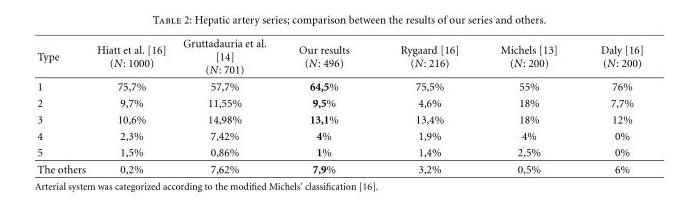table: (36, 37, 642, 175)
table column: (173, 37, 281, 175), (374, 37, 479, 175), (479, 37, 578, 175), (281, 37, 374, 175), (90, 37, 173, 175), (578, 37, 642, 175), (36, 37, 90, 175)
table column header: (36, 37, 642, 77)
table row: (36, 37, 642, 77), (36, 77, 642, 94), (36, 110, 642, 127), (36, 143, 642, 160), (36, 94, 642, 110), (36, 127, 642, 143), (36, 160, 642, 175)
